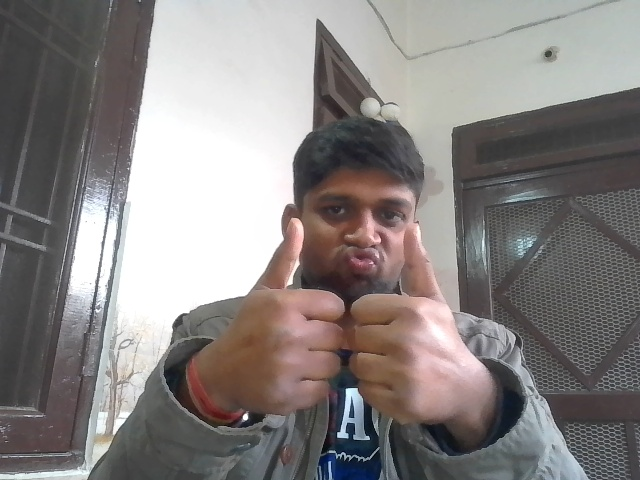Excellent: (221, 215, 471, 435)
